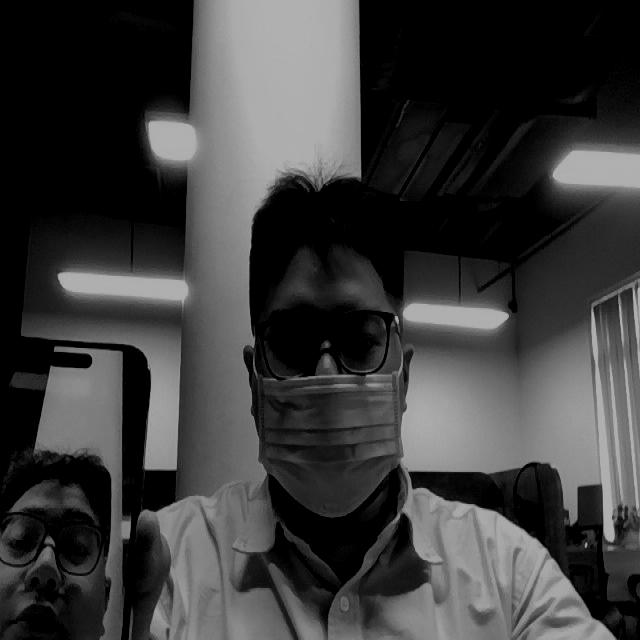fake: (0, 313, 153, 640), (0, 432, 113, 640), (254, 368, 403, 520)
real: (243, 153, 416, 530), (261, 306, 399, 377)
